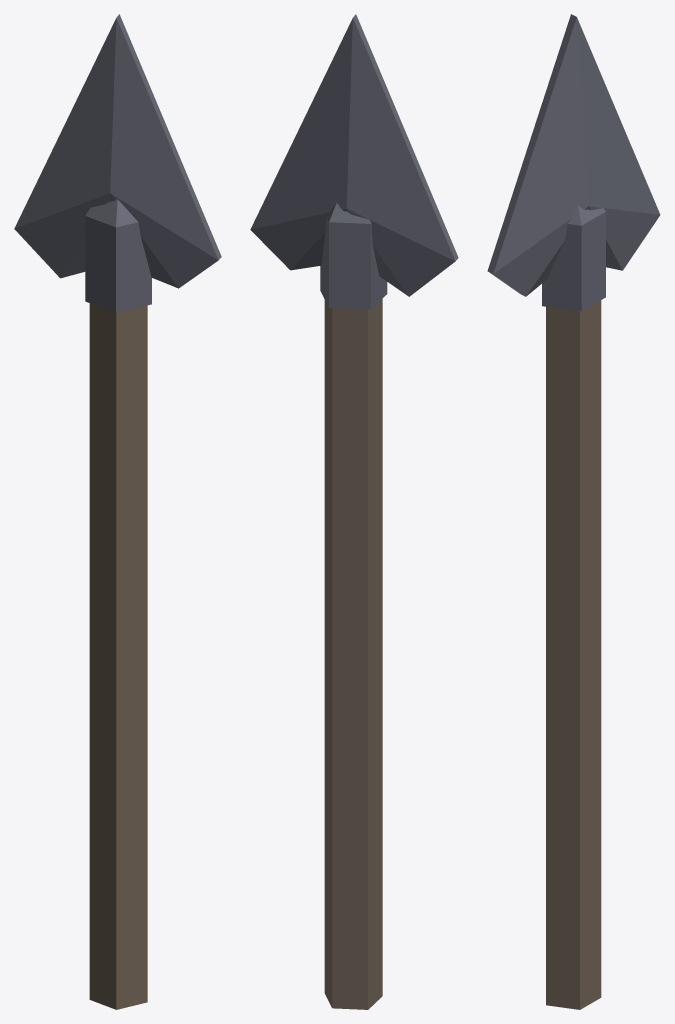
The model's file is Archer_shell_LVL_3.fbx.
The picture shows the model from 3 angles, left to right: view 1: azimuth 30°, elevation 25°; view 2: azimuth 210°, elevation 25°; view 3: azimuth 270°, elevation 25°; orthographic projection.
Parts seen in each view (by area): view 1: Archer_shell_LVL_3; view 2: Archer_shell_LVL_3; view 3: Archer_shell_LVL_3.
Part boxes in pixels (x1,y1,x2,y2): Archer_shell_LVL_3: (14,14,221,1009); Archer_shell_LVL_3: (250,14,458,1009); Archer_shell_LVL_3: (487,14,660,1009).
Bounding box in the file's own units: 29.52 × 218 × 34.76.
